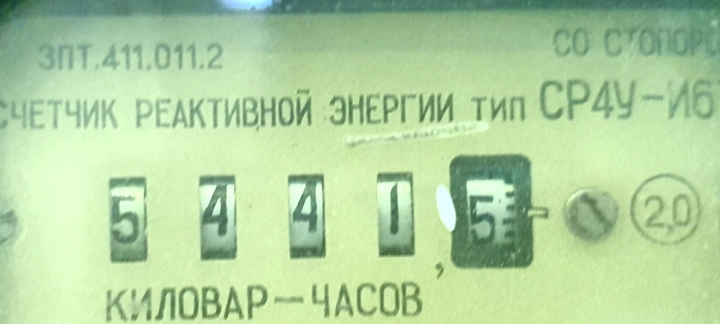1: (381, 180, 406, 238)
4: (286, 174, 324, 241), (198, 178, 234, 240)
5: (105, 190, 145, 248), (464, 188, 500, 251)
screen: (83, 124, 559, 298)
